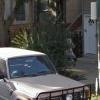Car: (3, 38, 97, 100)
